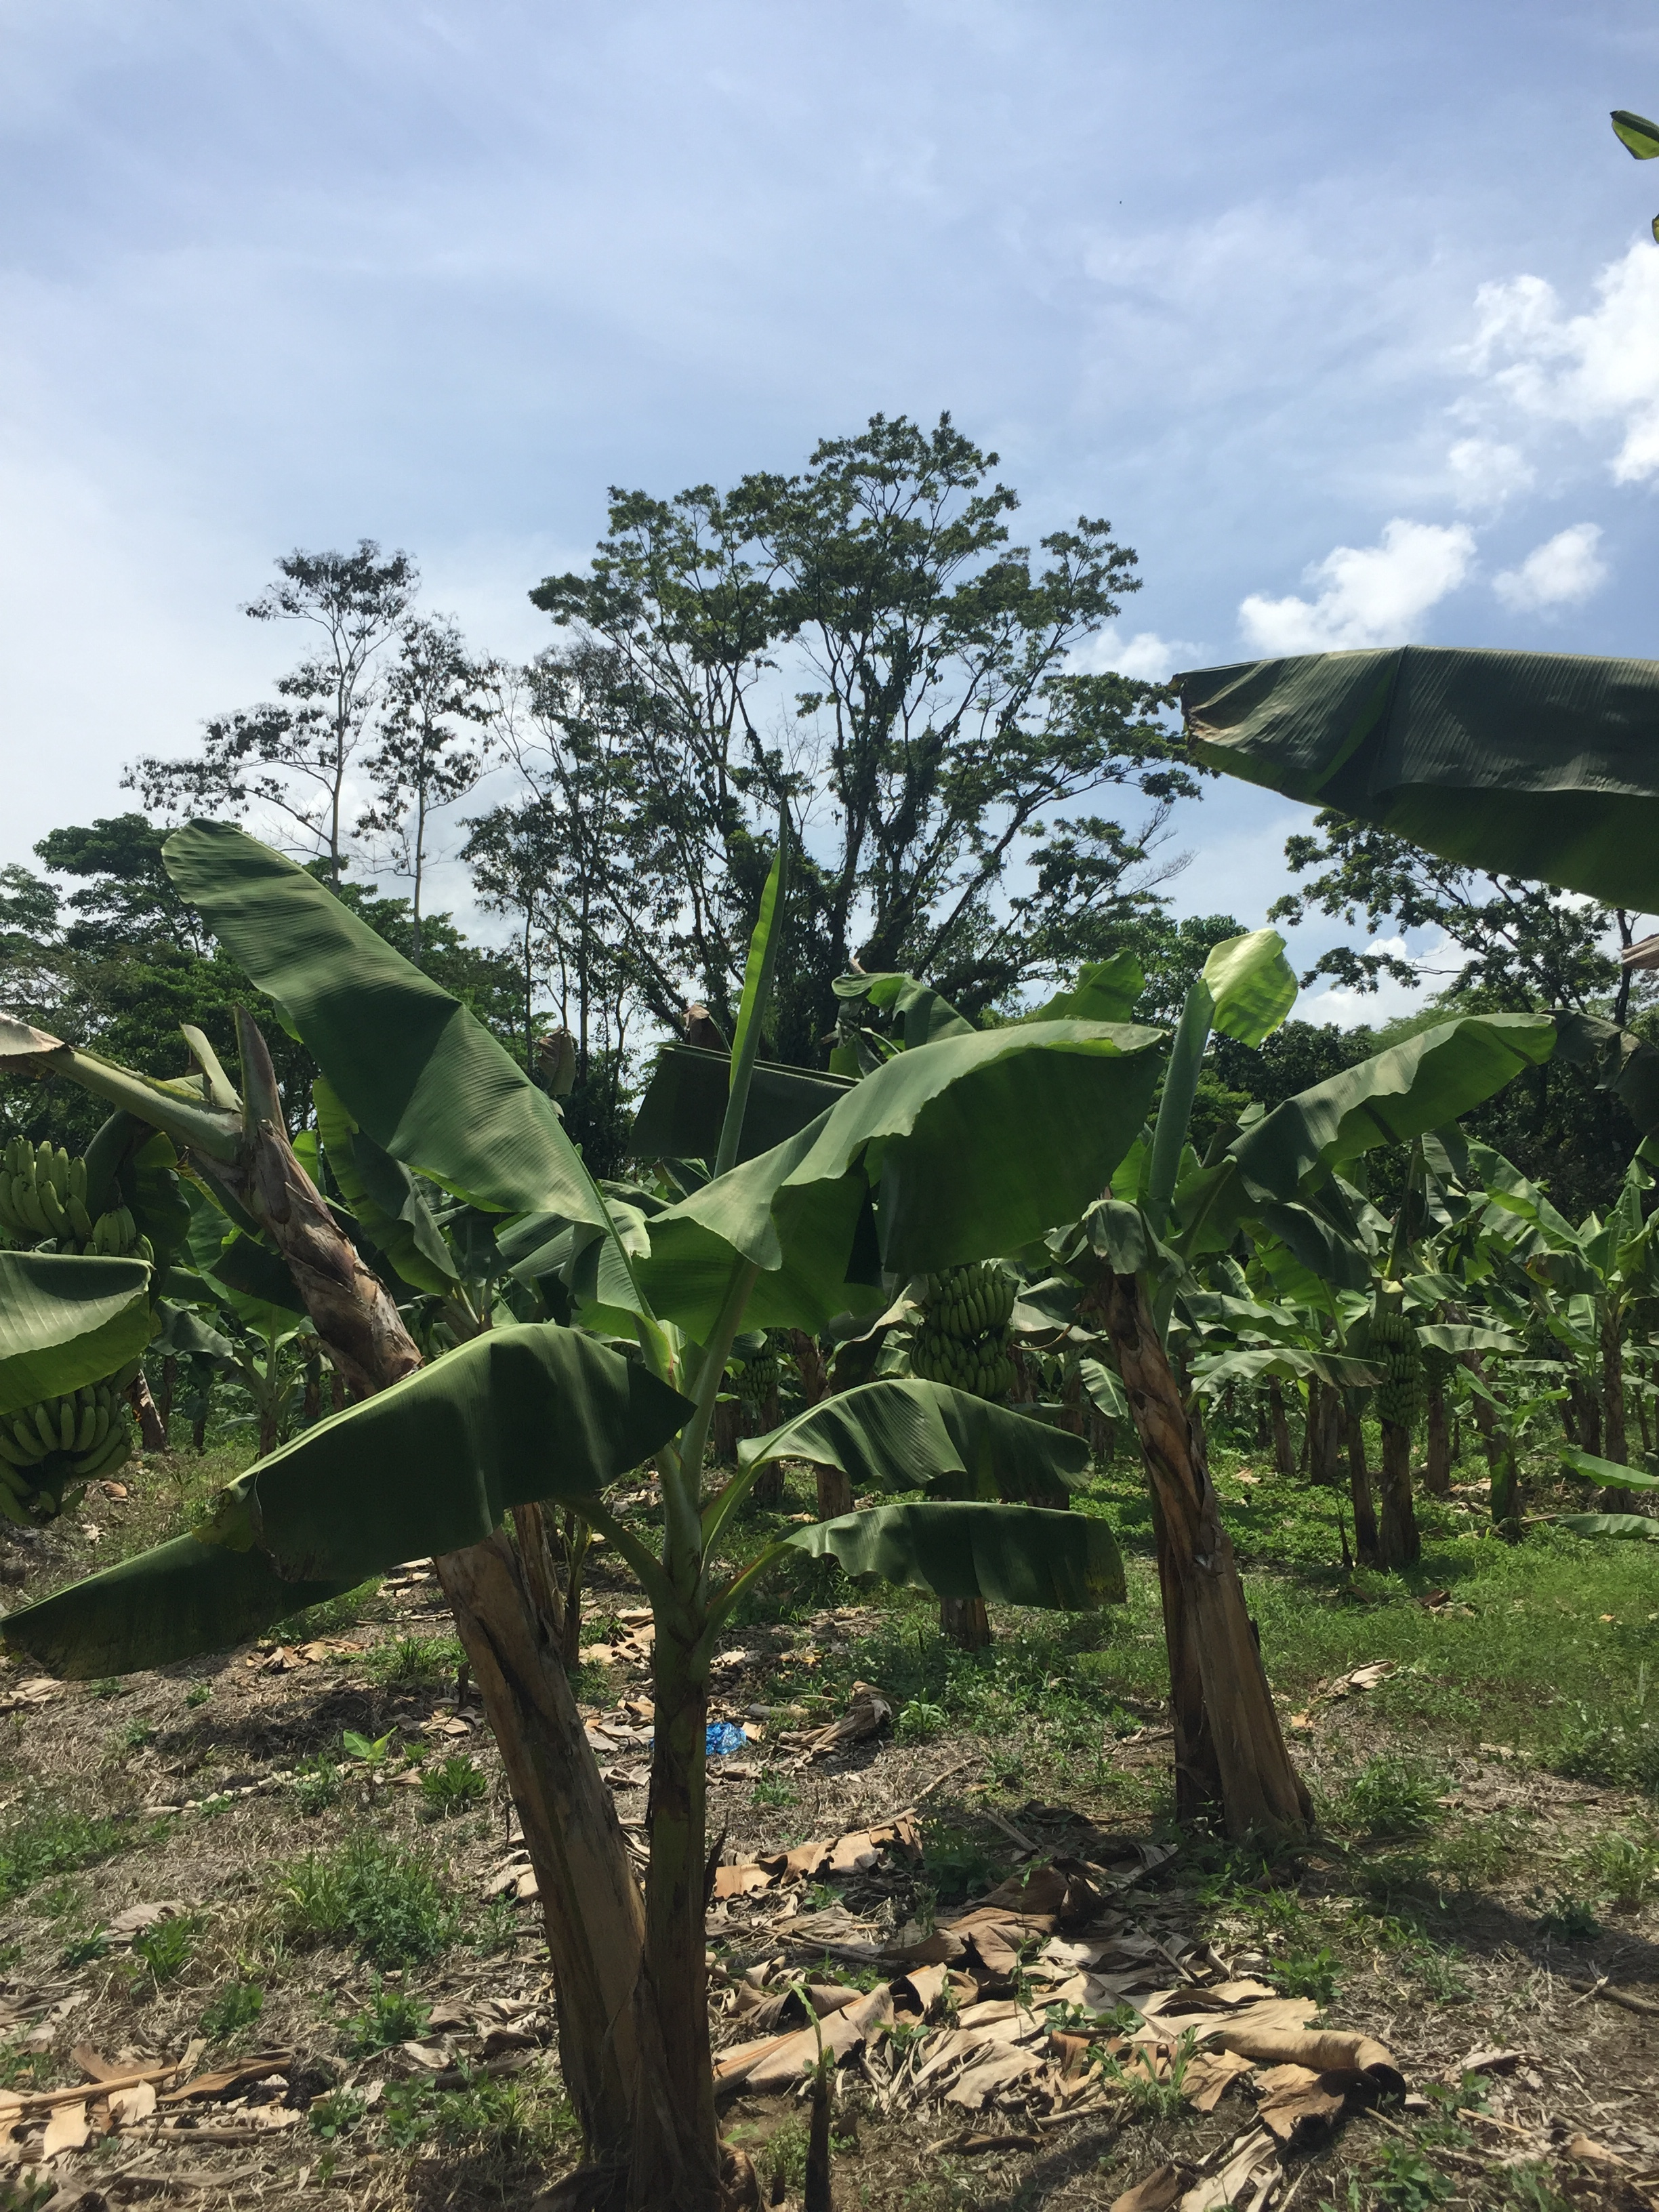candleleafs: (711, 791, 788, 1177), (1147, 977, 1218, 1211)
